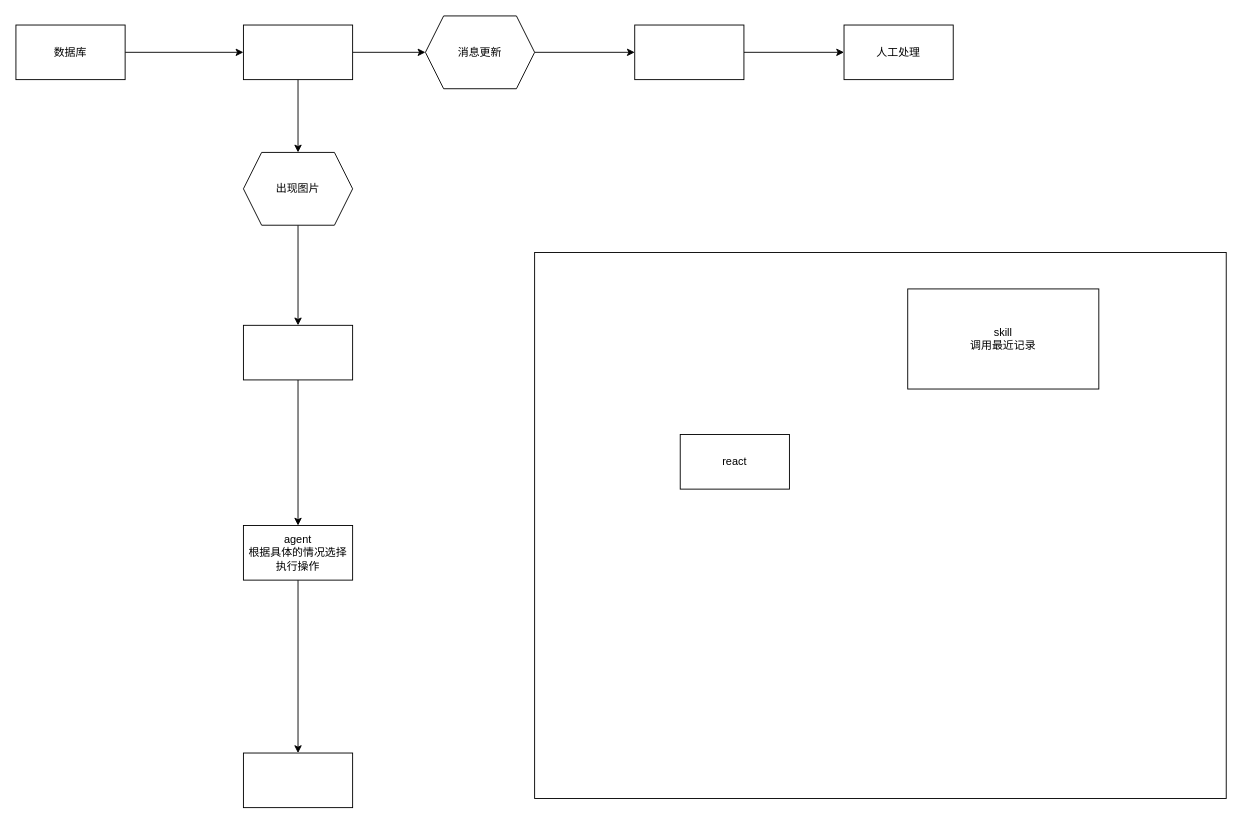
This 1242x824 diagram has some shape labels left out. The shapes that lost their labels are listed below. From the top down, each one's box as (x1, y1, x2, y2) in pixels, then its label:
(243, 24, 353, 80): 数据库监控
(634, 24, 744, 80): llm分析
(243, 324, 353, 380): 识别
(243, 752, 353, 808): ERP下单
